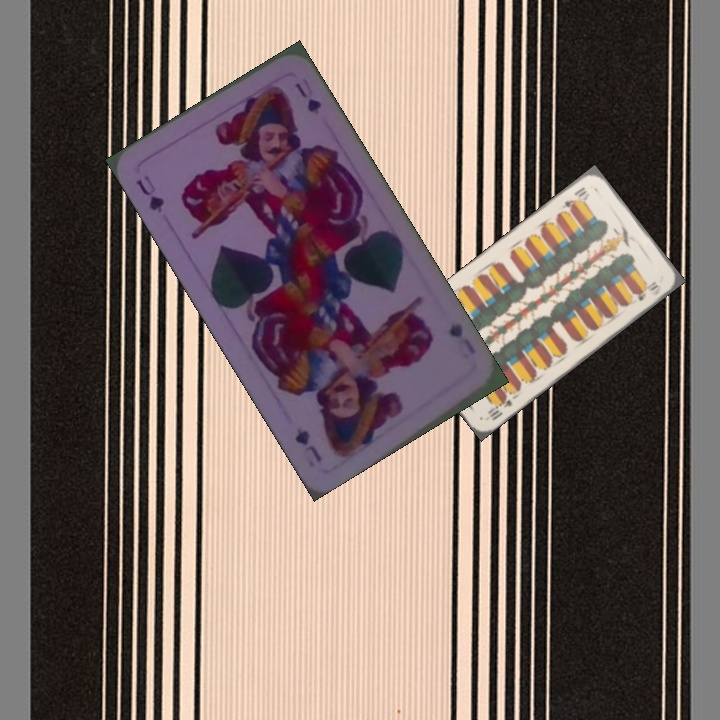E10: (483, 391, 515, 423), (558, 182, 590, 212)
GU: (131, 171, 168, 216), (445, 318, 478, 357)
